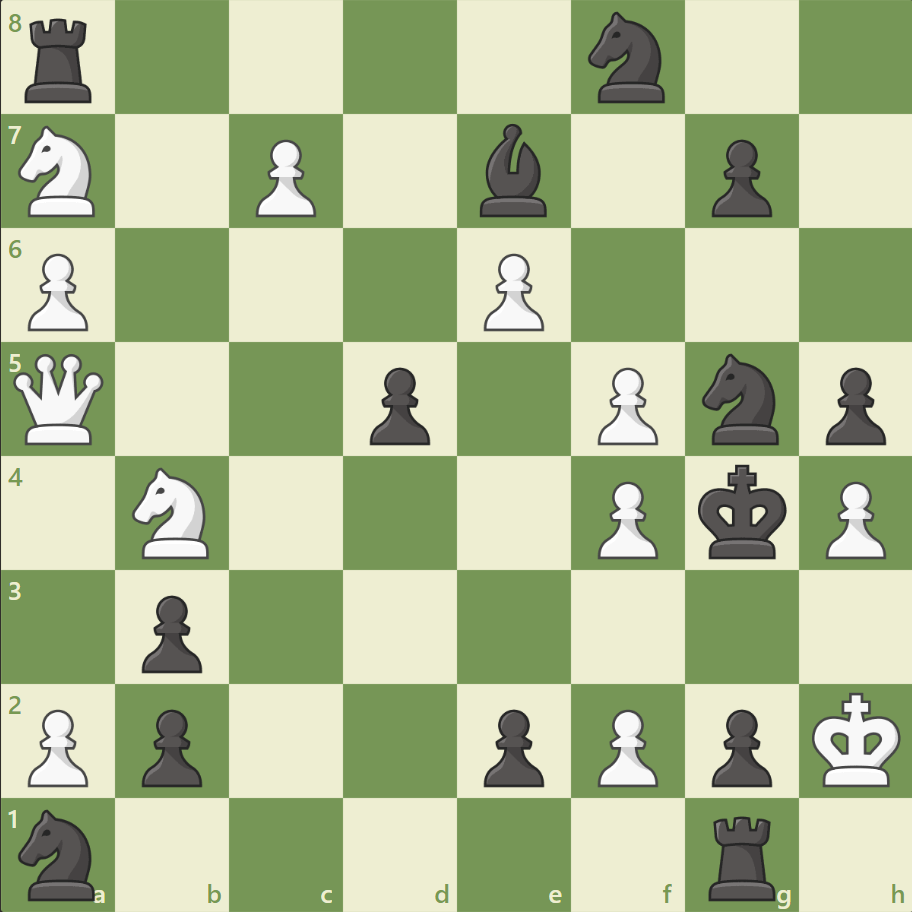K: (806, 685, 906, 793)
N: (124, 461, 222, 564), (11, 121, 108, 223)
P: (247, 132, 322, 223), (20, 246, 95, 337), (474, 246, 549, 337), (20, 700, 95, 791), (588, 359, 662, 450), (588, 473, 662, 564), (815, 473, 889, 564), (588, 700, 662, 791)
Q: (10, 349, 109, 449)
b: (471, 120, 555, 222)
k: (692, 458, 792, 566)
n: (579, 7, 676, 110), (692, 348, 789, 450), (11, 802, 108, 904)
p: (701, 132, 776, 223), (133, 586, 208, 677), (133, 700, 208, 791), (474, 700, 549, 791), (701, 700, 776, 791), (361, 359, 435, 450), (815, 359, 889, 450)
r: (700, 806, 783, 904), (19, 12, 102, 109)
